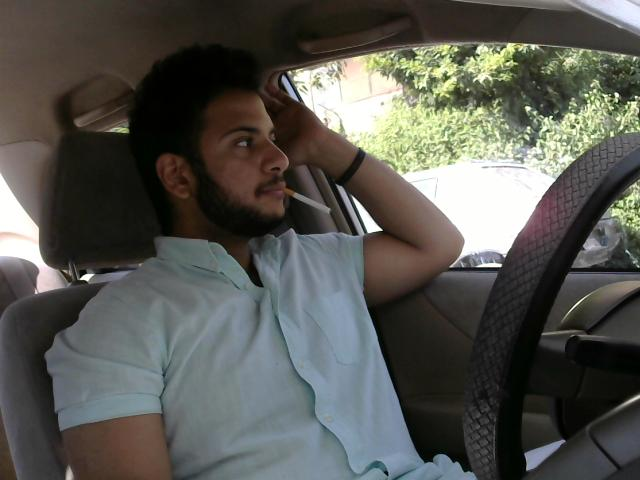Smoking: (278, 187, 337, 217)
